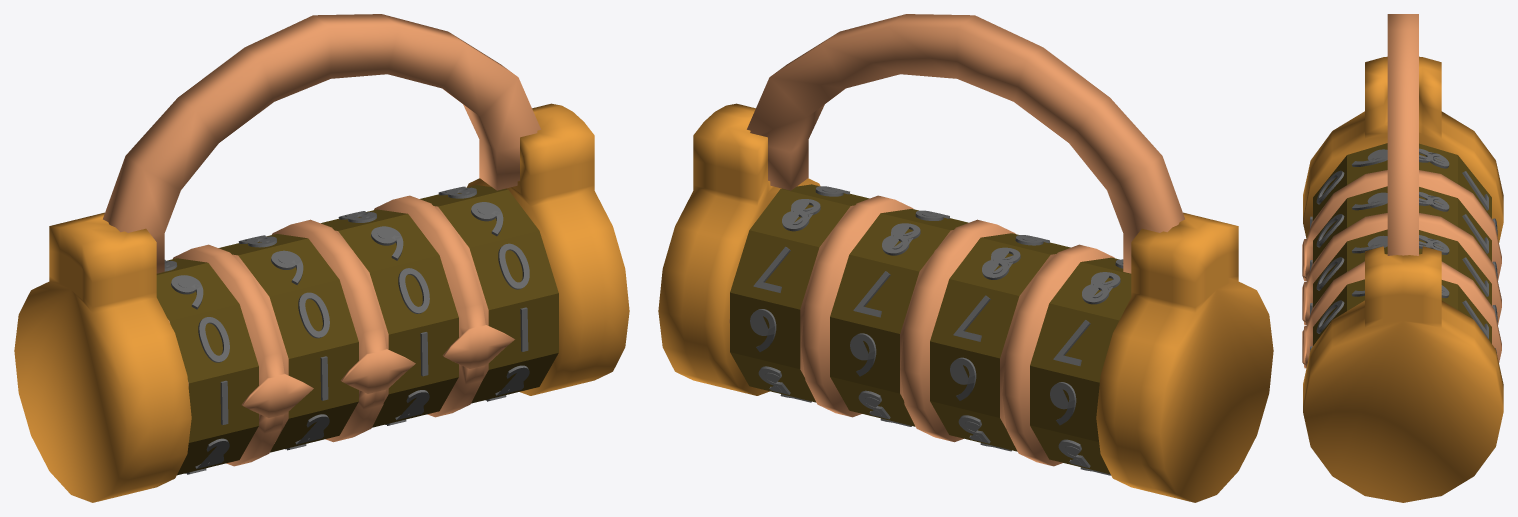
Rendered from CombinationLock2.fbx.
3 renders of one model, left to right at view 1: azimuth 30°, elevation 25°; view 2: azimuth 150°, elevation 25°; view 3: azimuth 270°, elevation 25°, orthographic. The views are drawn at different scales.
Parts seen in each view (by area): view 1: Apparatus_Head, Lock, Base, Apparatus_End, Keys.001, Keys.003, Keys.002, Keys; view 2: Apparatus_Head, Lock, Base, Apparatus_End, Keys.003, Keys.001, Keys.002, Keys; view 3: Apparatus_End, Base, Apparatus_Head, Lock, Keys, Keys.003, Keys.002, Keys.001.
Part boxes in pixels (box(x1,y1,x2,y2)): Apparatus_Head: box(14, 212, 191, 502); Lock: box(103, 14, 540, 273); Base: box(168, 195, 514, 466); Apparatus_End: box(467, 103, 629, 395); Keys.001: box(420, 185, 558, 403); Keys.003: box(218, 234, 358, 452); Keys.002: box(321, 209, 458, 427); Keys: box(156, 258, 258, 475); Apparatus_Head: box(1096, 212, 1273, 502); Lock: box(747, 14, 1184, 273); Base: box(729, 195, 1114, 466); Apparatus_End: box(658, 103, 820, 395); Keys.003: box(930, 233, 1070, 451); Keys.001: box(730, 184, 869, 402); Keys.002: box(830, 209, 968, 426); Keys: box(1030, 257, 1131, 475); Apparatus_End: box(1303, 246, 1503, 502); Base: box(1302, 170, 1501, 368); Apparatus_Head: box(1303, 56, 1503, 242); Lock: box(1387, 14, 1418, 255); Keys: box(1310, 143, 1497, 236); Keys.003: box(1310, 186, 1497, 278); Keys.002: box(1310, 229, 1497, 322); Keys.001: box(1310, 279, 1496, 353).
Size of the model in its own units: 1632 by 1280 by 640.
